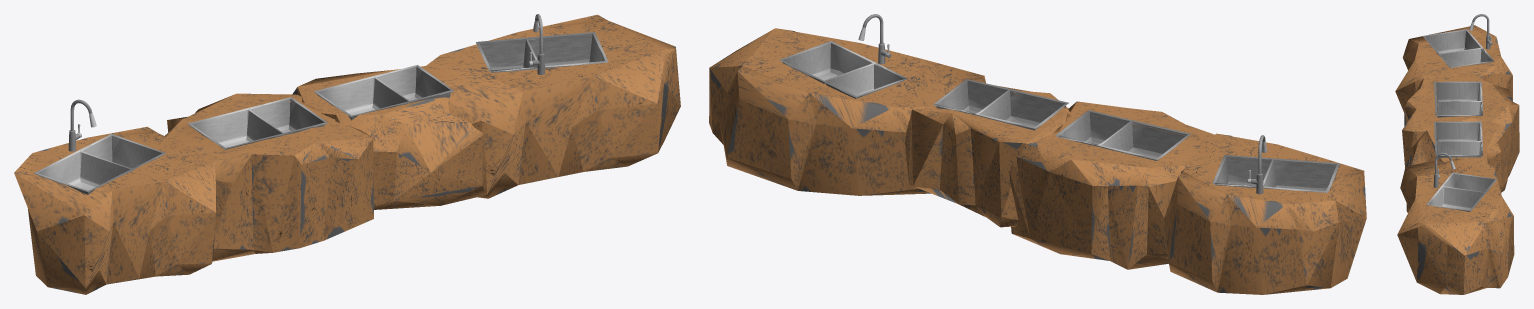
The model's file is sinks.obj.
The picture shows the model from 3 angles, left to right: view 1: azimuth 30°, elevation 25°; view 2: azimuth 150°, elevation 25°; view 3: azimuth 270°, elevation 25°; orthographic projection. The views are drawn at different scales.
Visible parts, largest first — view 1: polySurface1530; view 2: polySurface1530; view 3: polySurface1530.
Part boxes in pixels (box(x1,y1,x2,y2)): polySurface1530: box(14, 14, 680, 294); polySurface1530: box(709, 14, 1366, 294); polySurface1530: box(1395, 14, 1519, 294).
Size of the model in its own units: 34.35 by 7.7 by 8.45.
2 materials, 2 textured.
